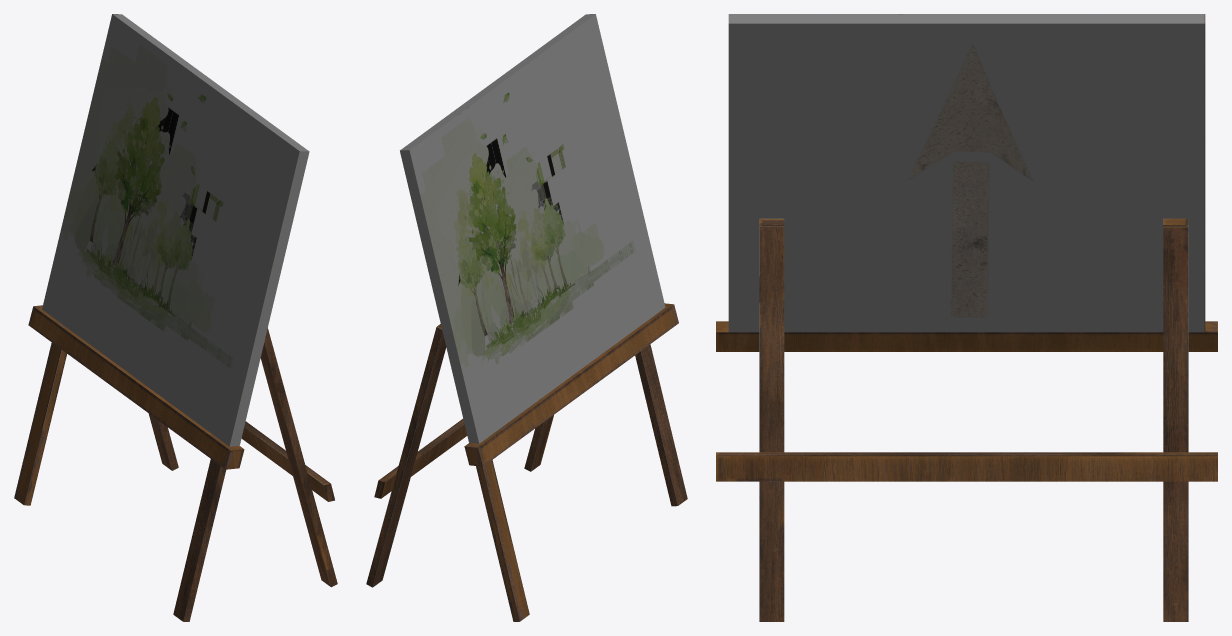
The model's file is modelNew 17.fbx.
3 views of the same model, side by side, from view 1: azimuth 30°, elevation 25°; view 2: azimuth 150°, elevation 25°; view 3: azimuth 270°, elevation 25° (orthographic). The views are drawn at different scales.
Parts seen in each view (by area): view 1: Art Board__0; view 2: Art Board__0; view 3: Art Board__0.
Part boxes in pixels (x1,y1,x2,y2): Art Board__0: (14,14,337,621); Art Board__0: (366,14,687,621); Art Board__0: (716,14,1217,621).
Size of the model in its own units: 4527 by 12736 by 10000.
Materials: 1 (1 with a texture image).
